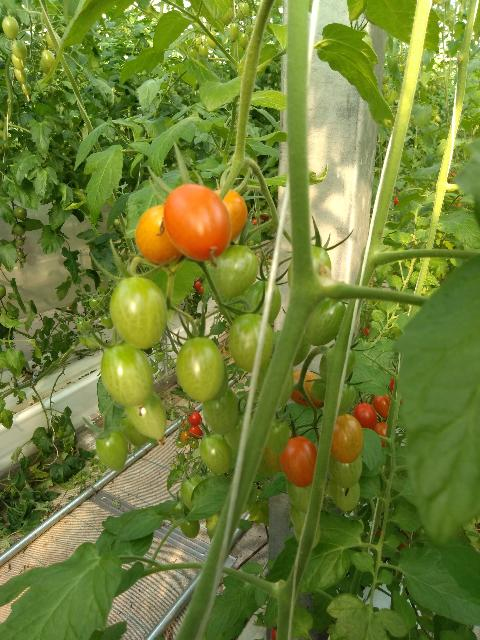l_fully_ripened: (278, 436, 317, 488), (353, 402, 377, 430), (372, 394, 391, 419), (188, 411, 202, 426), (189, 426, 202, 438)
l_green: (111, 277, 168, 350), (100, 343, 153, 407), (176, 337, 224, 404), (229, 313, 274, 373), (213, 243, 260, 299), (124, 390, 166, 440), (303, 298, 346, 346), (200, 387, 239, 436), (242, 280, 282, 325), (320, 343, 356, 385), (95, 430, 128, 472), (200, 434, 231, 475), (328, 453, 363, 489), (328, 475, 360, 512), (120, 408, 150, 447), (325, 379, 355, 417), (293, 514, 321, 550), (286, 477, 311, 514), (180, 474, 203, 511), (267, 419, 290, 455), (292, 333, 312, 367), (290, 502, 307, 535), (180, 514, 200, 539), (257, 454, 276, 478), (172, 498, 191, 521), (2, 16, 20, 40), (311, 377, 326, 401), (11, 39, 27, 59), (42, 49, 55, 69), (89, 295, 105, 311), (12, 53, 26, 71), (101, 313, 115, 329), (14, 66, 27, 83), (12, 207, 27, 220), (40, 58, 51, 75), (12, 224, 25, 236), (42, 71, 53, 85), (22, 83, 32, 96), (188, 438, 199, 449), (176, 437, 185, 449), (180, 435, 189, 445), (176, 453, 185, 462), (16, 239, 25, 247), (188, 451, 194, 460)
l_half_ripened: (163, 183, 233, 261), (136, 204, 184, 264), (213, 188, 248, 243), (331, 413, 363, 463), (289, 369, 325, 407), (263, 442, 284, 472), (373, 422, 387, 447), (181, 428, 191, 443)
